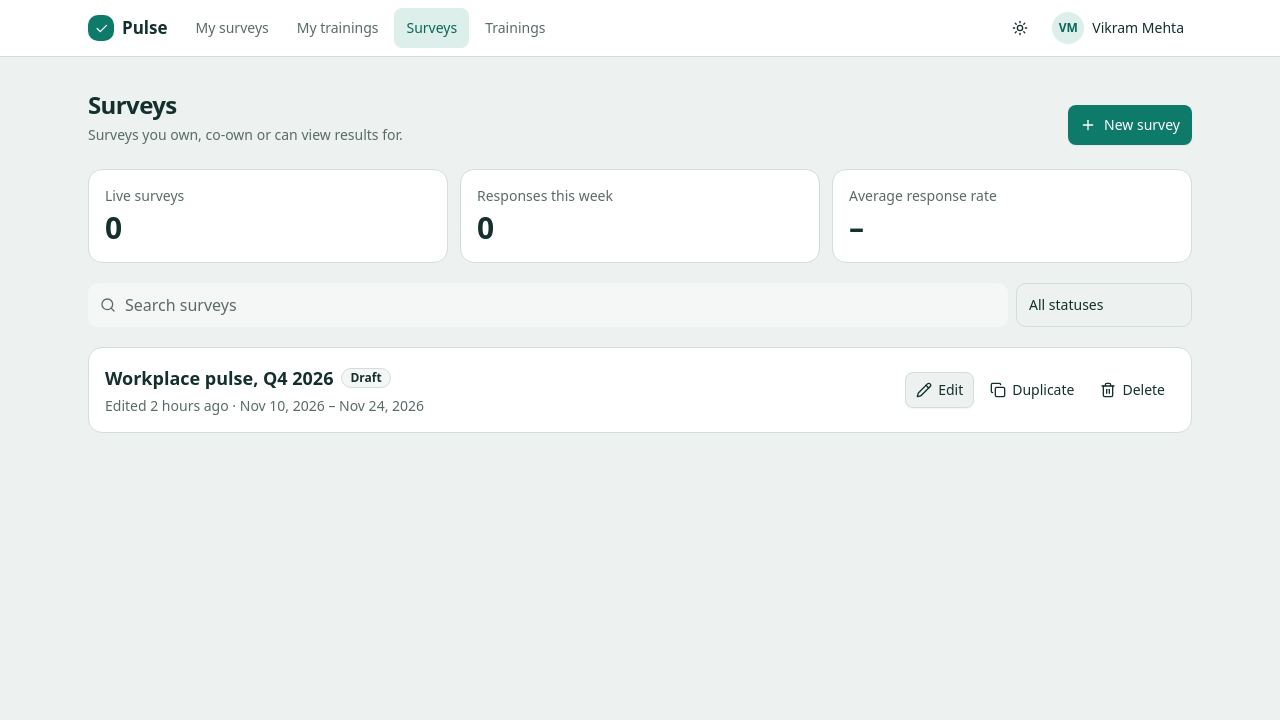
Test: Surveys home › deletes after confirming
This screenshot has width=1280, height=720.
Click the button with aria-label "Delete Workplace pulse, Q4 2026": (1133, 390) [1090,372,1175,408]
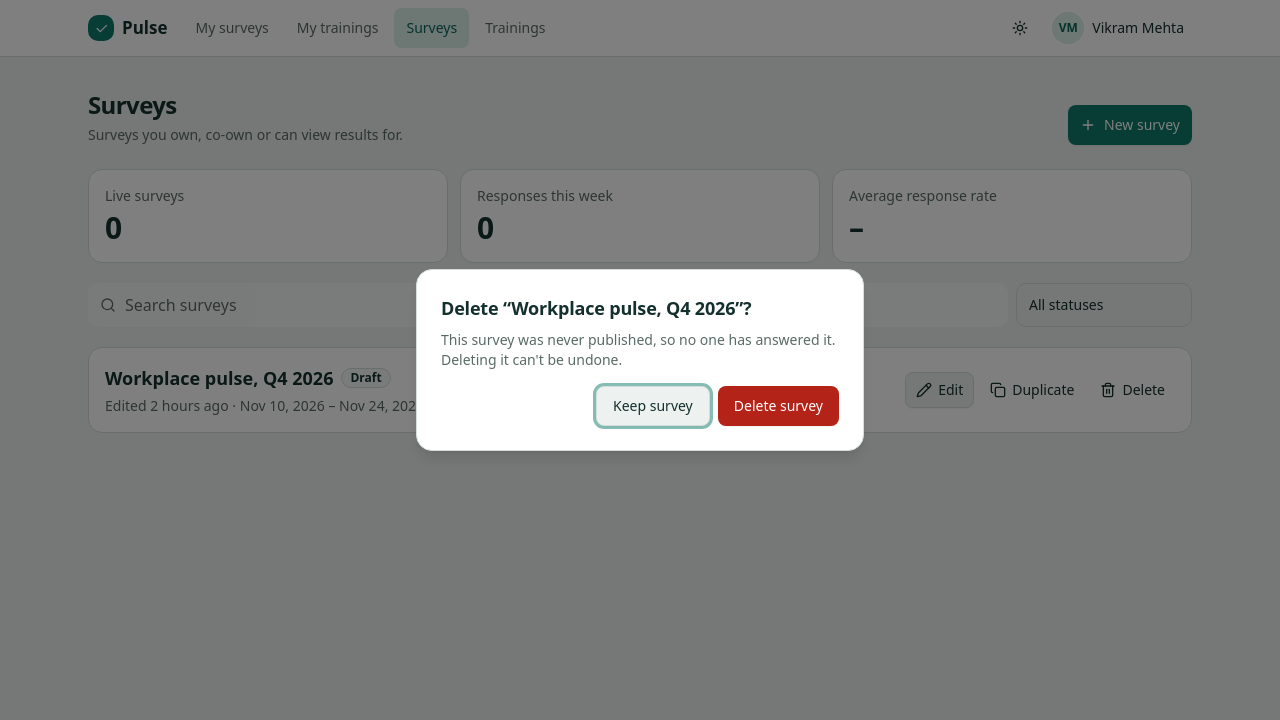
Click the button "Delete survey": (778, 406) [718,386,839,426]
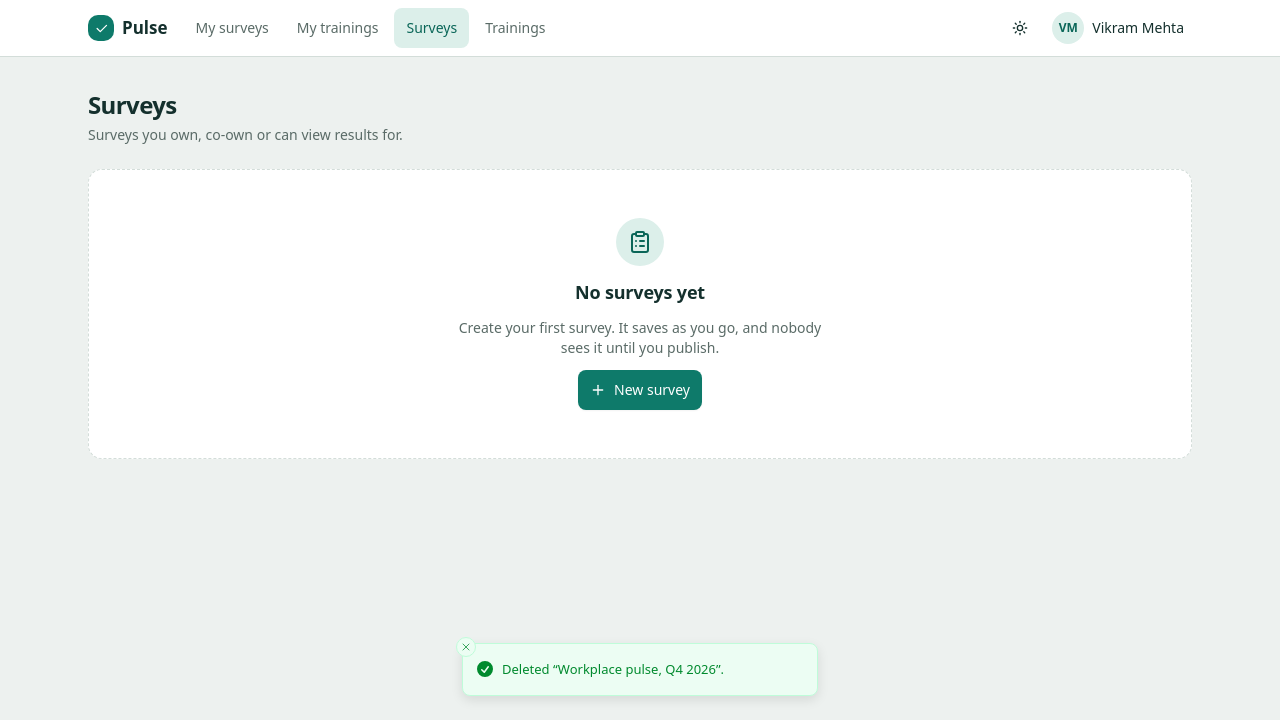
Expected: the text "Deleted “Workplace pulse, Q4 2026”." is shown, [502,660,724,679]
Expected: the heading "No surveys yet" is shown, [575,278,705,306]
